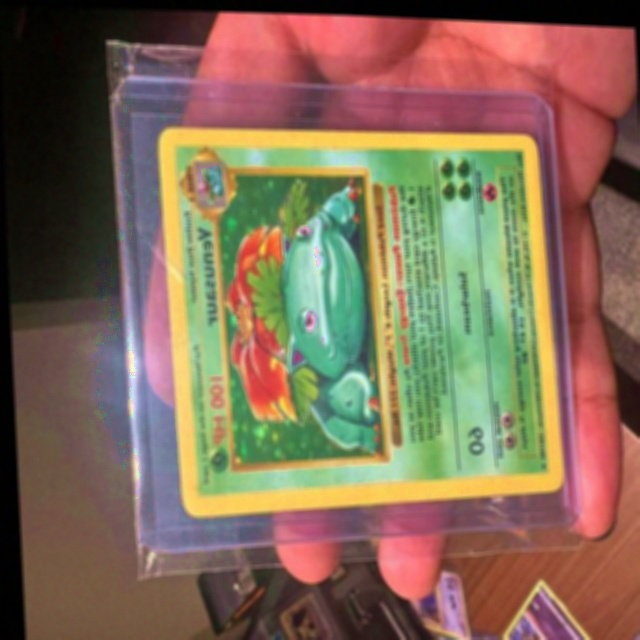card: (155, 124, 560, 516)
